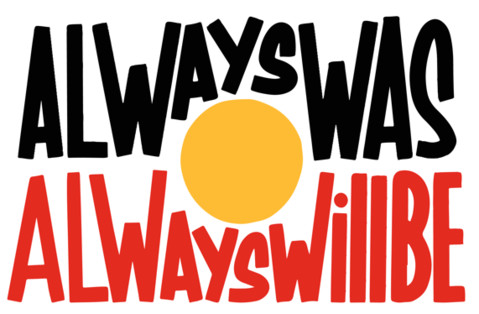aboriginal_flag: (1, 1, 479, 313)
